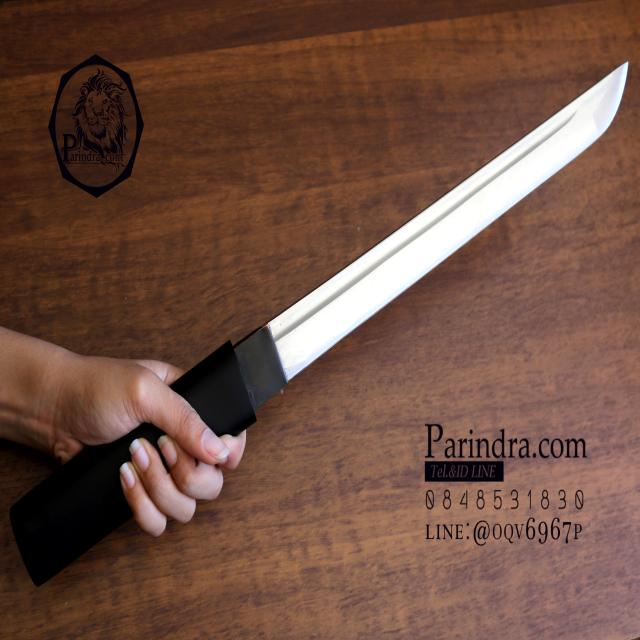short sword: (8, 12, 632, 581)
